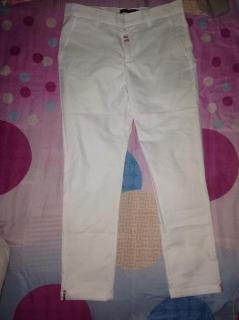trousers: (57, 0, 224, 301)
